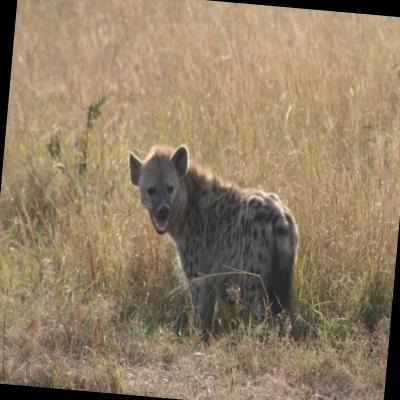hyenas: (105, 121, 308, 320)
